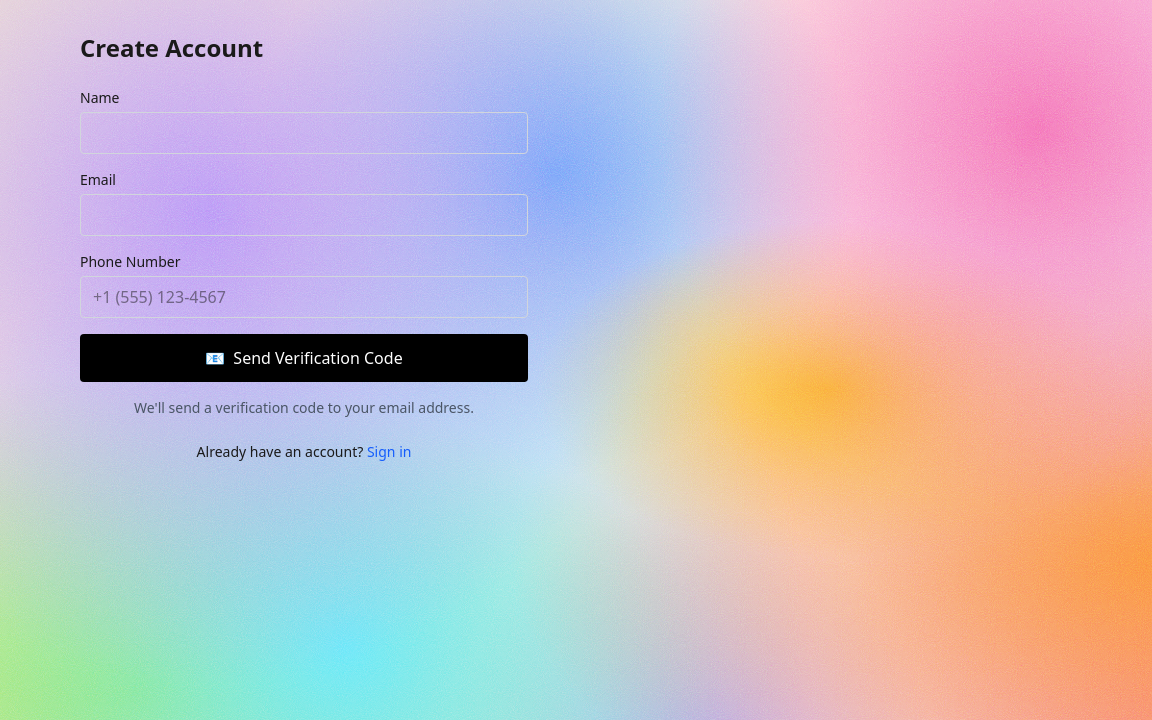
Test case: RegisterForm › Email Step - Form Validation › shows error when phone format is invalid
Type "Test User" into the field labelled "Name".
click(304, 133); type("Test User")  # box x1=80 y1=112 x2=528 y2=154
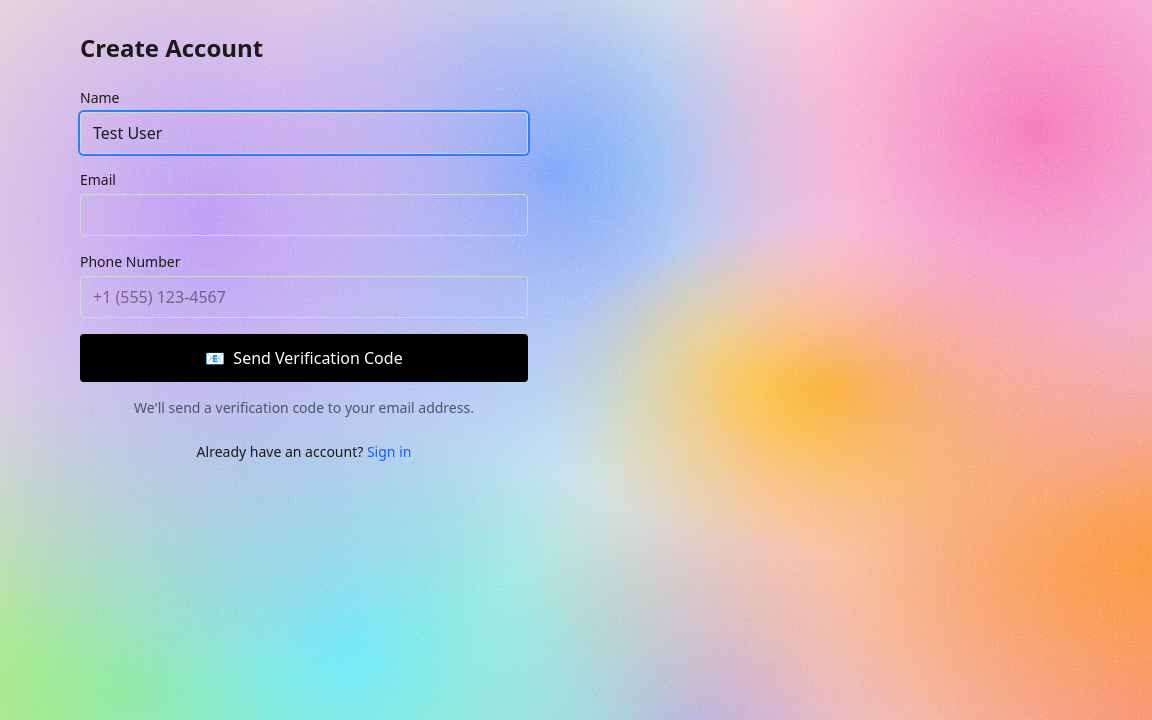
Type "test@example.com" into the field labelled "Email".
click(304, 215); type("test@example.com")  # box x1=80 y1=194 x2=528 y2=236
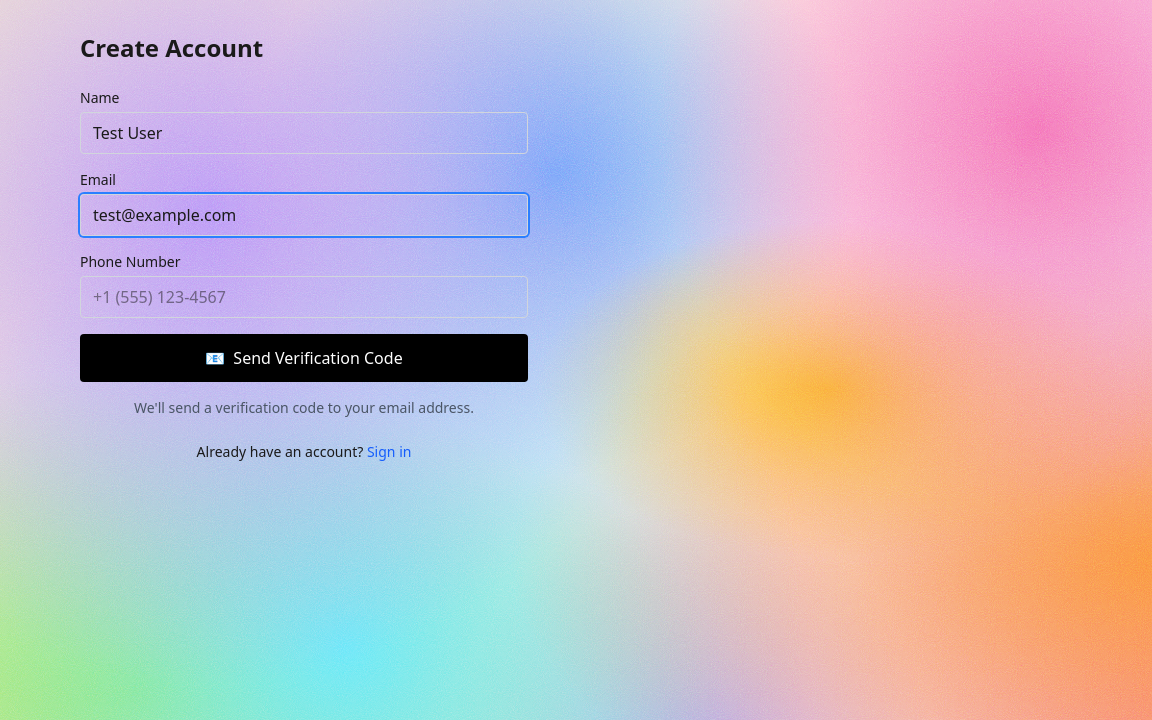
Type "123" into the field labelled "Phone Number".
click(304, 297); type("123")  # box x1=80 y1=276 x2=528 y2=318
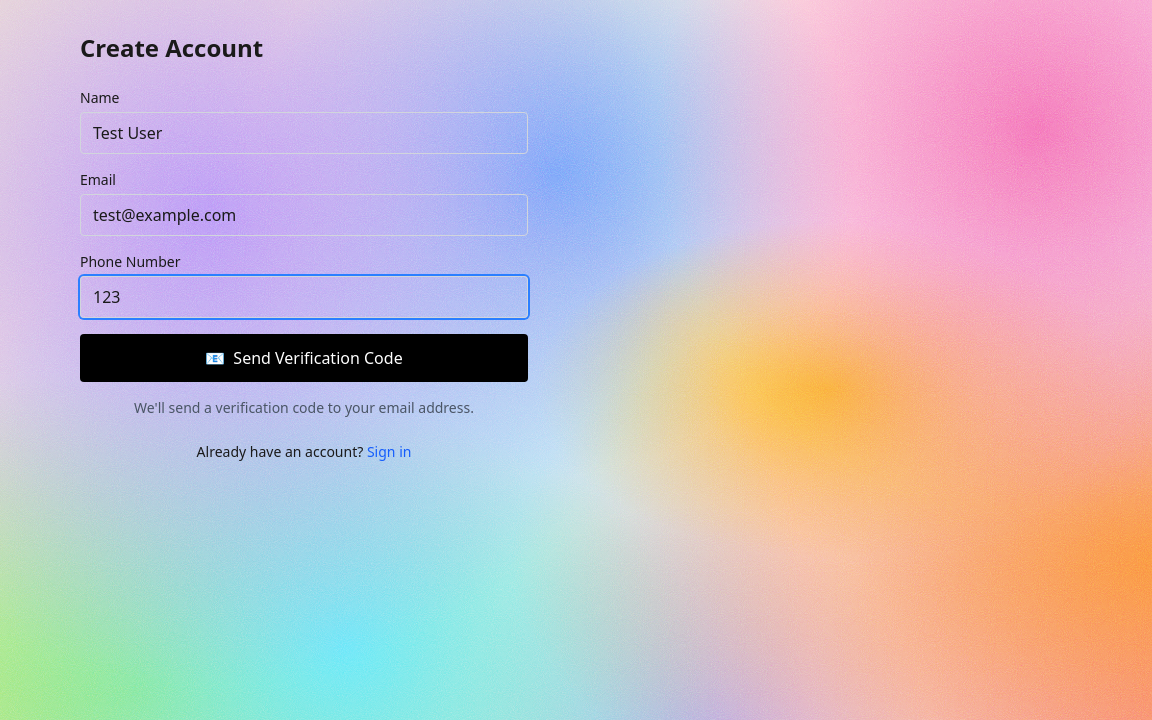
Click the button "📧 Send Verification Code".
click(304, 358)  # box x1=80 y1=334 x2=528 y2=382
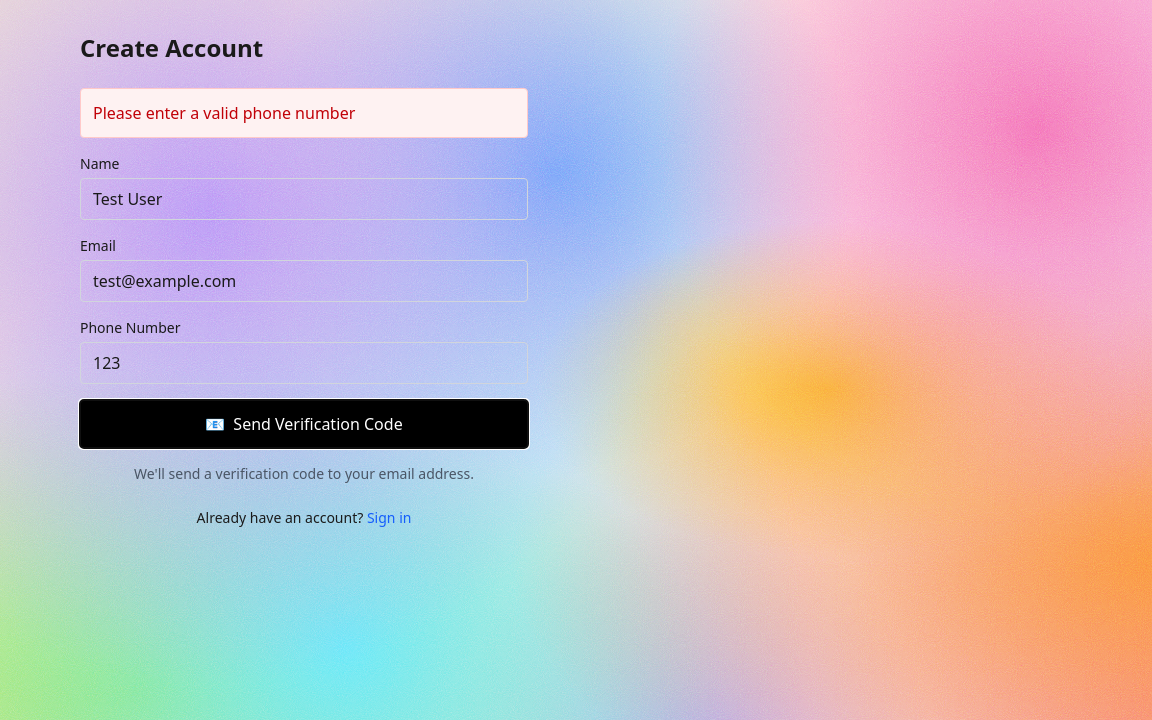
Check: the text "Please enter a valid phone number" is shown, box x1=80 y1=88 x2=528 y2=138
